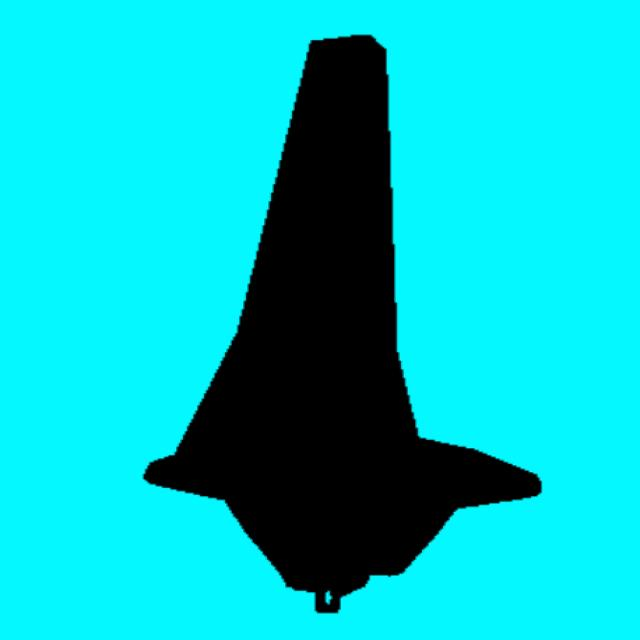BlackBuoy: (144, 36, 541, 612)
